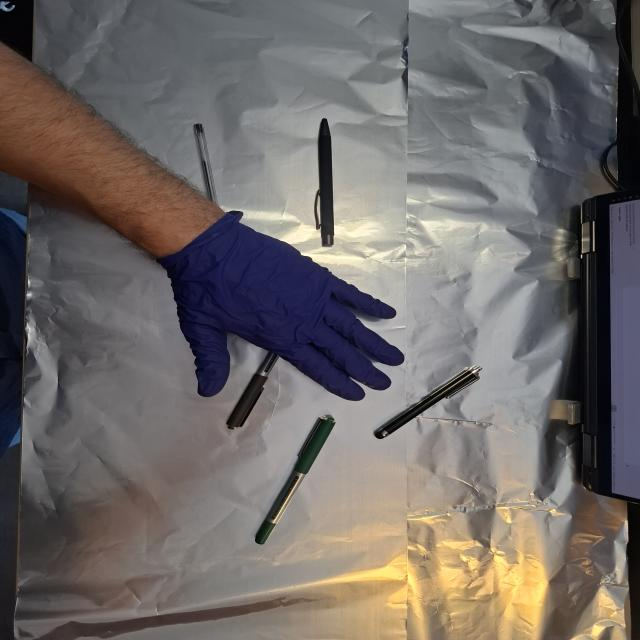glove_on: (166, 222, 410, 403)
